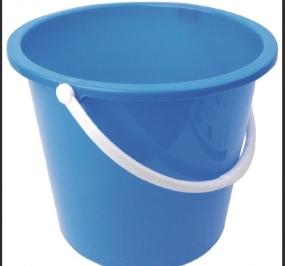SEAU: (0, 0, 274, 256)
